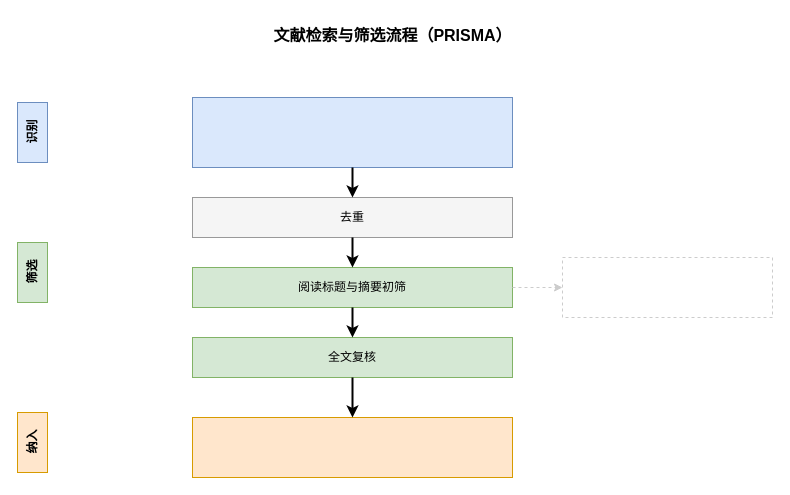
This 790x495 diagram has some shape labels left out. Each missing label, with the centre of its shape:
剔除明显不相关文献 （中药药理、临床疗效试验、 与评测无关的应用报道等）: [667,287]
数据库检索共检出文献 276 篇 Web of Science 125 ｜ PubMed 85 CNKI 57 ｜ 万方 9: [352,132]
纳入与中医药大语言模型评测 直接相关的研究 34 篇（综述证据主体）: [352,447]
